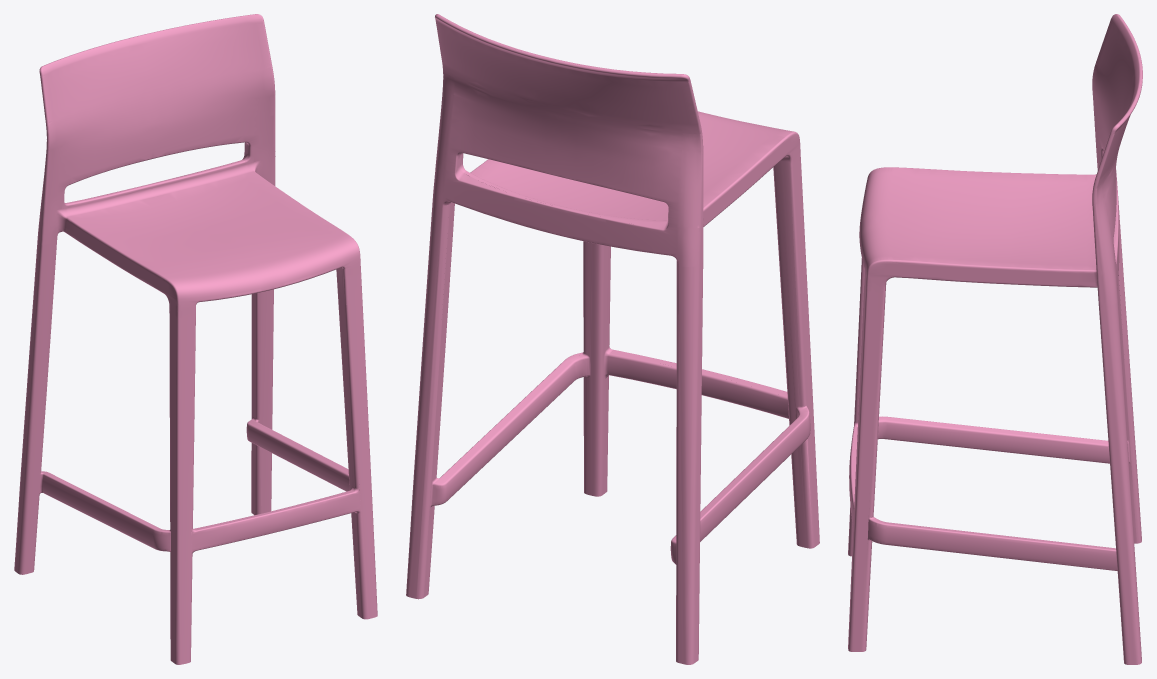
The picture shows the model from 3 angles, left to right: view 1: azimuth 30°, elevation 25°; view 2: azimuth 150°, elevation 25°; view 3: azimuth 270°, elevation 25°; orthographic projection. The views are drawn at different scales.
Visible parts, largest first — view 1: 2d3c534a-898f-4600-8faf-d90027489e6b; view 2: 2d3c534a-898f-4600-8faf-d90027489e6b; view 3: 2d3c534a-898f-4600-8faf-d90027489e6b.
Part boxes in pixels (x1,y1,x2,y2): 2d3c534a-898f-4600-8faf-d90027489e6b: [14, 14, 377, 664]; 2d3c534a-898f-4600-8faf-d90027489e6b: [406, 14, 819, 664]; 2d3c534a-898f-4600-8faf-d90027489e6b: [848, 14, 1142, 664].
Bounding box in the file's own units: 0.4881 × 0.9367 × 0.4714.
